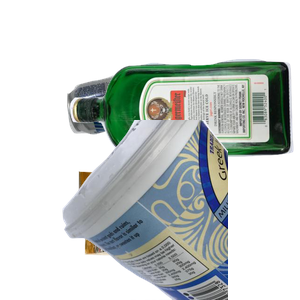glass: (67, 56, 300, 206)
metal: (65, 65, 231, 192)
plastic: (60, 120, 300, 300)
trash: (76, 159, 259, 300)
